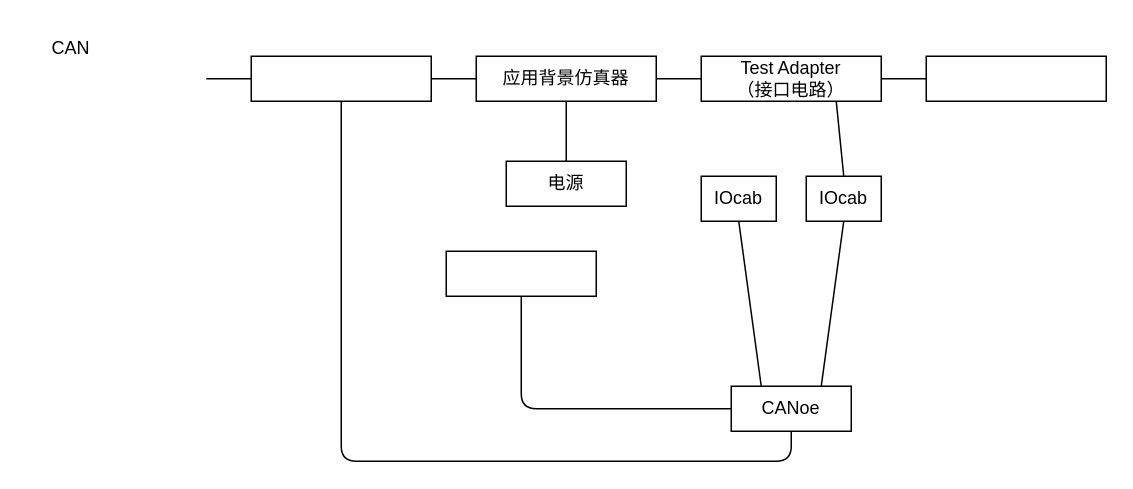
This 1133x489 diagram has some shape labels left out. Here are the shapes that lost their labels. From the top down, the centre of each, then its label:
At (x=340, y=78): "干扰仪 （例如 CAN stress）".
At (x=1015, y=78): "被测系统".
At (x=520, y=273): "物理层信号捕捉（CANscope）".
